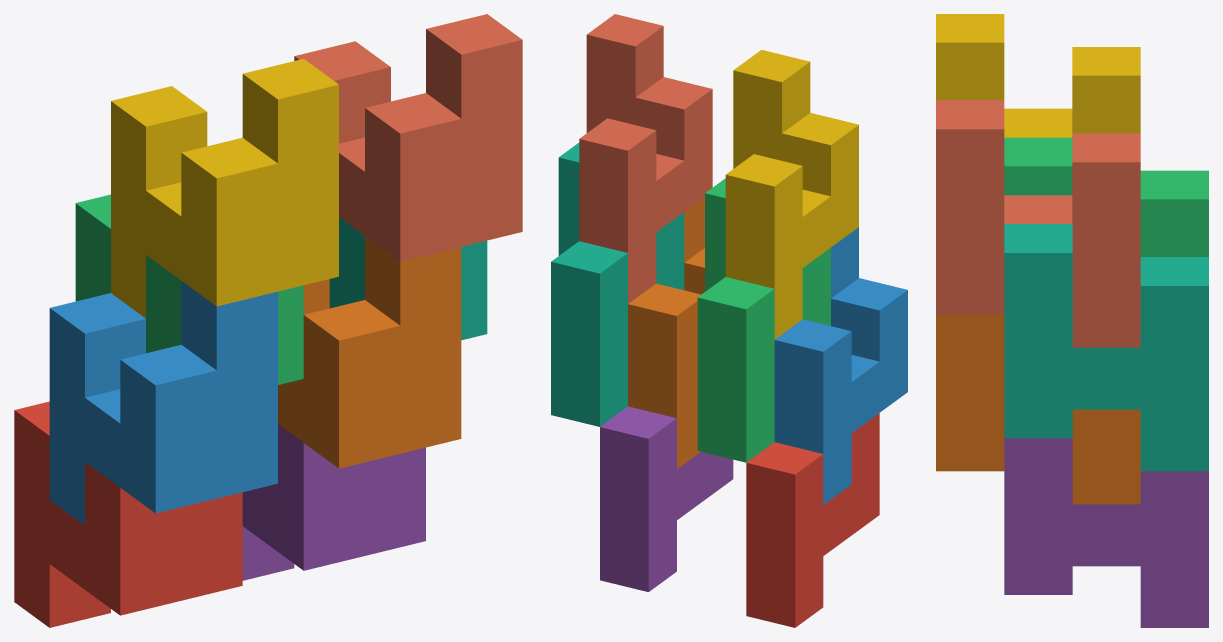
Rendered from tiling.obj.
3 renders of one model, left to right at view 1: azimuth 30°, elevation 25°; view 2: azimuth 150°, elevation 25°; view 3: azimuth 270°, elevation 25°, orthographic. The views are drawn at different scales.
Visible parts, largest first — view 1: copy_1_domain_4, copy_1_domain_2, copy_1_domain_8, copy_1_domain_6, copy_1_domain_1, copy_1_domain_5, copy_1_domain_3, copy_1_domain_7; view 2: copy_1_domain_4, copy_1_domain_8, copy_1_domain_2, copy_1_domain_1, copy_1_domain_3, copy_1_domain_7, copy_1_domain_5, copy_1_domain_6; view 3: copy_1_domain_7, copy_1_domain_8, copy_1_domain_5, copy_1_domain_6, copy_1_domain_4, copy_1_domain_3.
Part boxes in pixels (left/top/right/bottom): copy_1_domain_4: left=111, top=59, right=338, bottom=318; copy_1_domain_2: left=49, top=281, right=277, bottom=525; copy_1_domain_8: left=294, top=14, right=522, bottom=261; copy_1_domain_6: left=278, top=236, right=461, bottom=468; copy_1_domain_1: left=14, top=401, right=242, bottom=627; copy_1_domain_5: left=242, top=424, right=425, bottom=580; copy_1_domain_3: left=75, top=194, right=303, bottom=384; copy_1_domain_7: left=329, top=217, right=487, bottom=340; copy_1_domain_4: left=725, top=50, right=858, bottom=339; copy_1_domain_8: left=579, top=14, right=712, bottom=303; copy_1_domain_2: left=774, top=227, right=907, bottom=504; copy_1_domain_1: left=746, top=413, right=879, bottom=627; copy_1_domain_3: left=697, top=178, right=830, bottom=462; copy_1_domain_7: left=551, top=142, right=684, bottom=426; copy_1_domain_5: left=600, top=406, right=733, bottom=591; copy_1_domain_6: left=628, top=197, right=704, bottom=468; copy_1_domain_7: left=1004, top=224, right=1208, bottom=471; copy_1_domain_8: left=936, top=100, right=1140, bottom=347; copy_1_domain_5: left=1004, top=438, right=1208, bottom=627; copy_1_domain_6: left=936, top=314, right=1140, bottom=504; copy_1_domain_4: left=936, top=14, right=1140, bottom=137; copy_1_domain_3: left=1004, top=137, right=1208, bottom=256.
Size of the model in its own units: 6 by 9 by 4.
